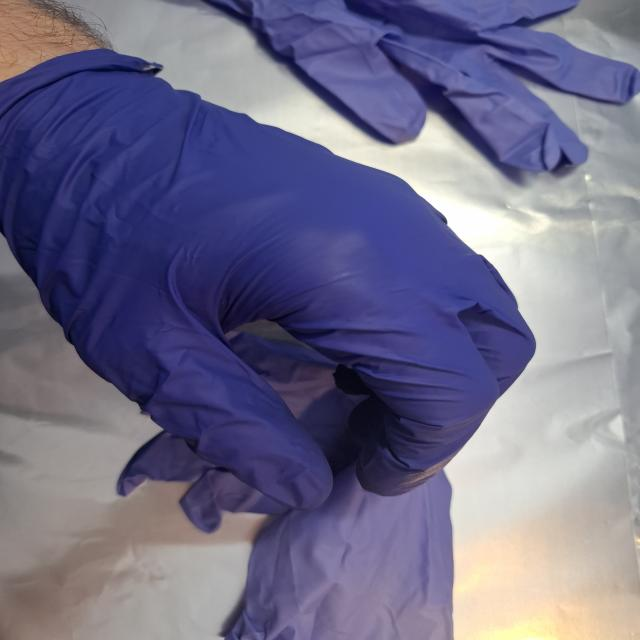glove_on: (0, 45, 540, 513)
